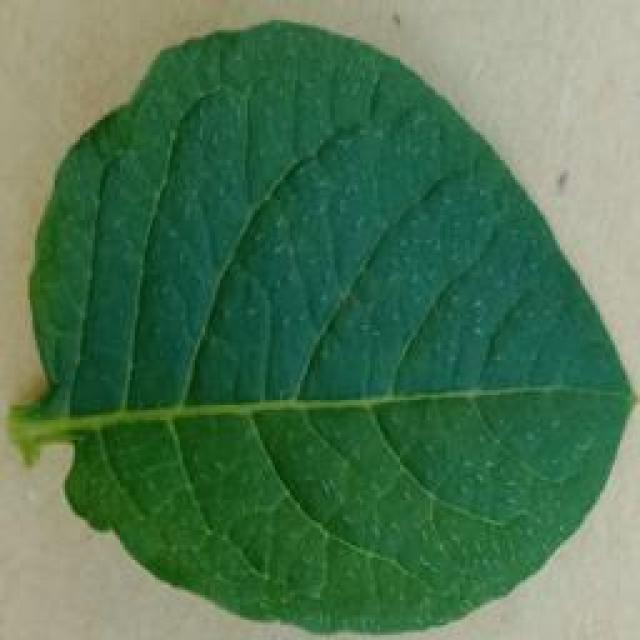Potato_Healthy: (10, 19, 623, 630)
